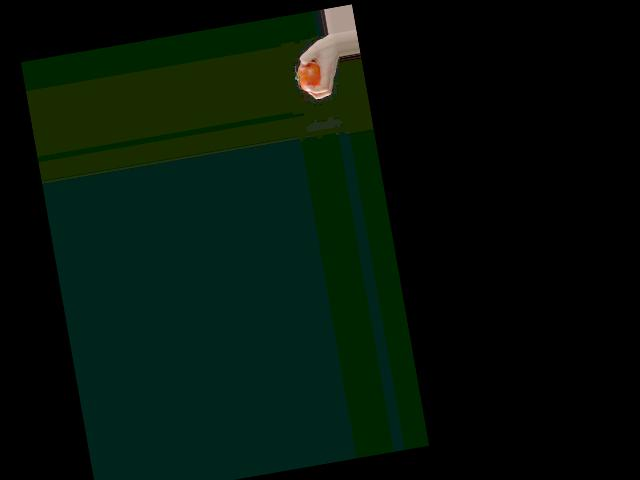tomato: (293, 60, 322, 93)
